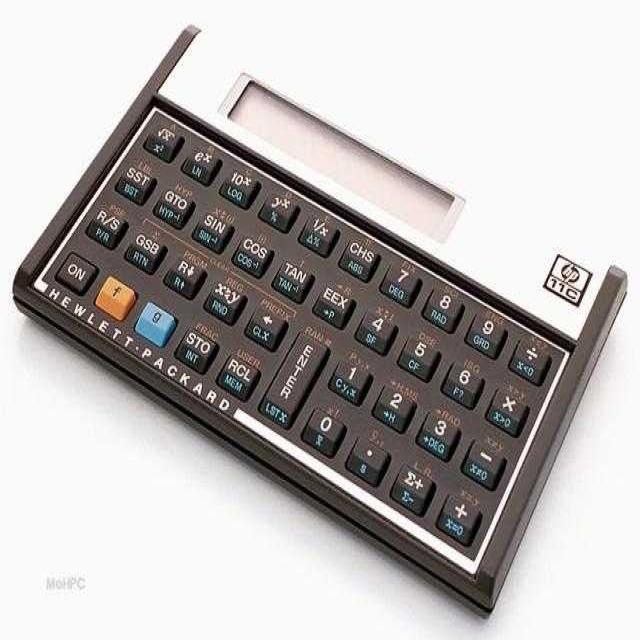Calculator: (11, 21, 628, 619)
